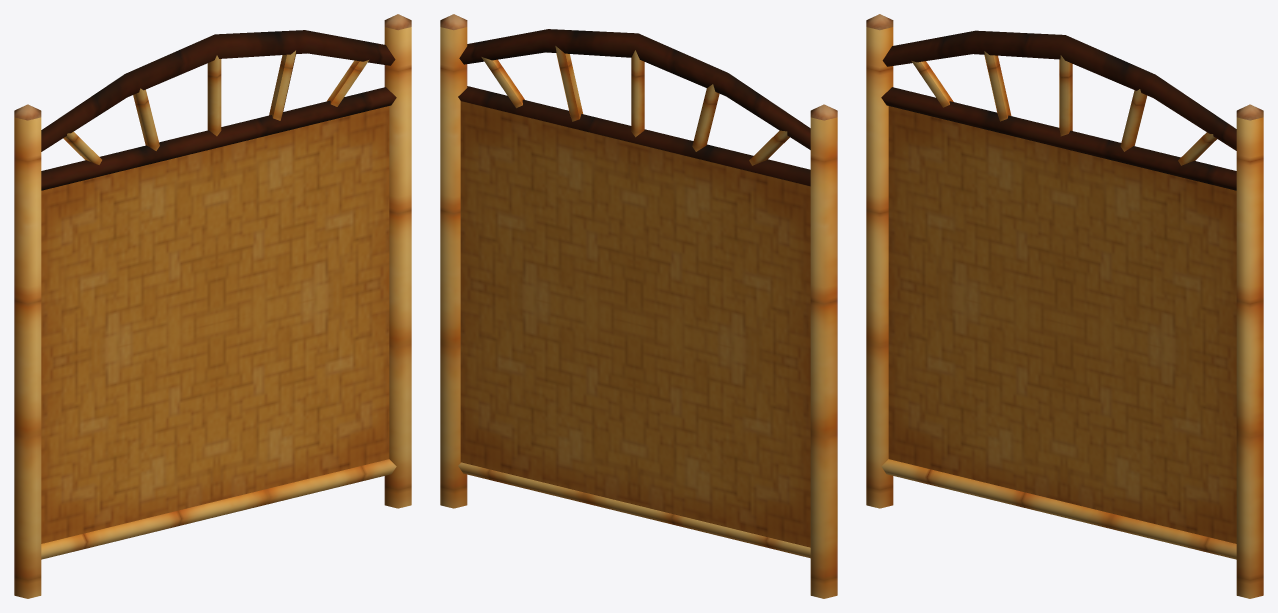
The model's file is Bamboo_Screen_01.fbx.
3 views of the same model, side by side, from view 1: azimuth 30°, elevation 25°; view 2: azimuth 150°, elevation 25°; view 3: azimuth 330°, elevation 25° (orthographic).
Visible parts, largest first — view 1: Bamboo_Screen_01; view 2: Bamboo_Screen_01; view 3: Bamboo_Screen_01.
Boxes of the visible parts, left/top/right/bottom form: Bamboo_Screen_01: left=14, top=14, right=411, bottom=598; Bamboo_Screen_01: left=440, top=14, right=837, bottom=598; Bamboo_Screen_01: left=866, top=14, right=1263, bottom=598.
Bounding box in the file's own units: 45.5 × 56.1 × 2.7.
